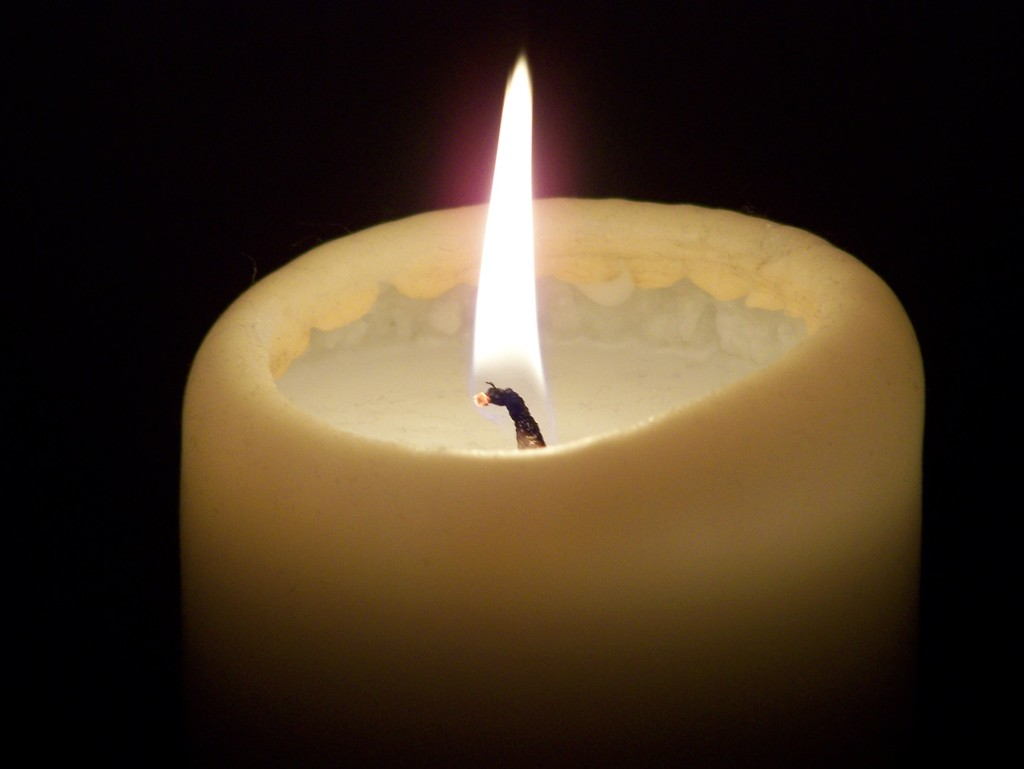person: (473, 382, 548, 450)
